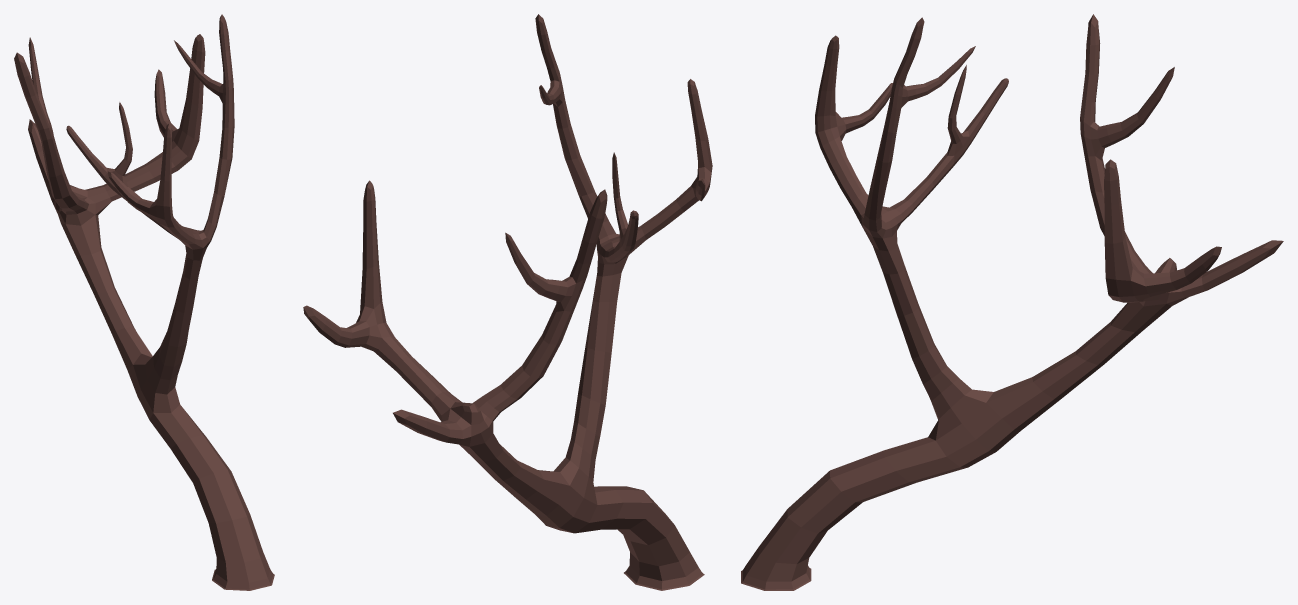
The model's file is Willow_Dead_2-transformed.glb.
3 views of the same model, side by side, from view 1: azimuth 30°, elevation 25°; view 2: azimuth 150°, elevation 25°; view 3: azimuth 270°, elevation 25° (orthographic). The views are drawn at different scales.
Visible parts, largest first — view 1: Willow_Dead_2; view 2: Willow_Dead_2; view 3: Willow_Dead_2.
Part boxes in pixels (x1=…): Willow_Dead_2: x1=14, y1=14, x2=274, y2=590; Willow_Dead_2: x1=303, y1=14, x2=712, y2=590; Willow_Dead_2: x1=741, y1=14, x2=1283, y2=590.
Size of the model in its own units: 1.17 by 2.84 by 2.4.
